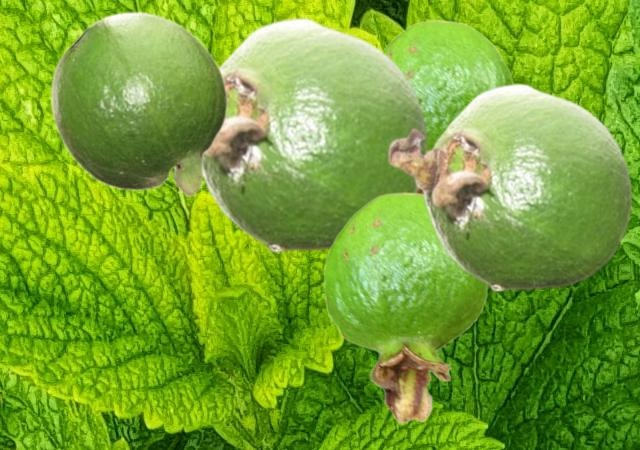guava: (204, 16, 429, 252), (386, 82, 633, 291), (323, 191, 487, 423), (49, 10, 227, 197), (383, 19, 514, 146)
